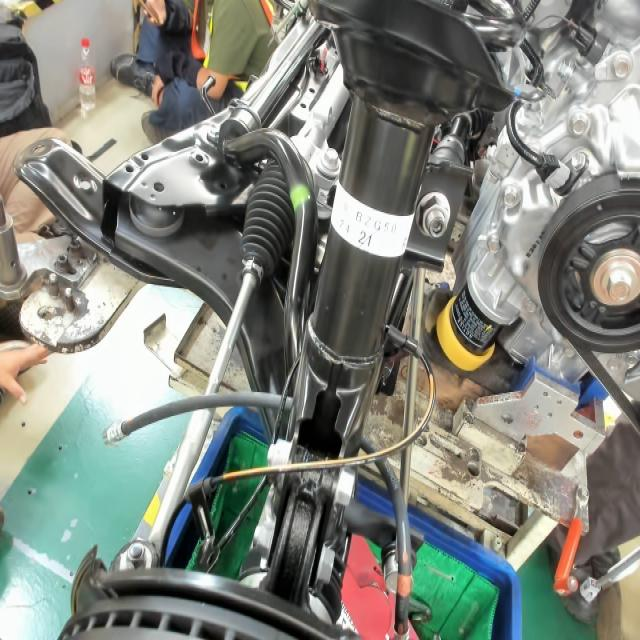Absorber RH-21: (356, 228, 374, 250)
Bar Stabilizer-HJ: (287, 183, 317, 214)
